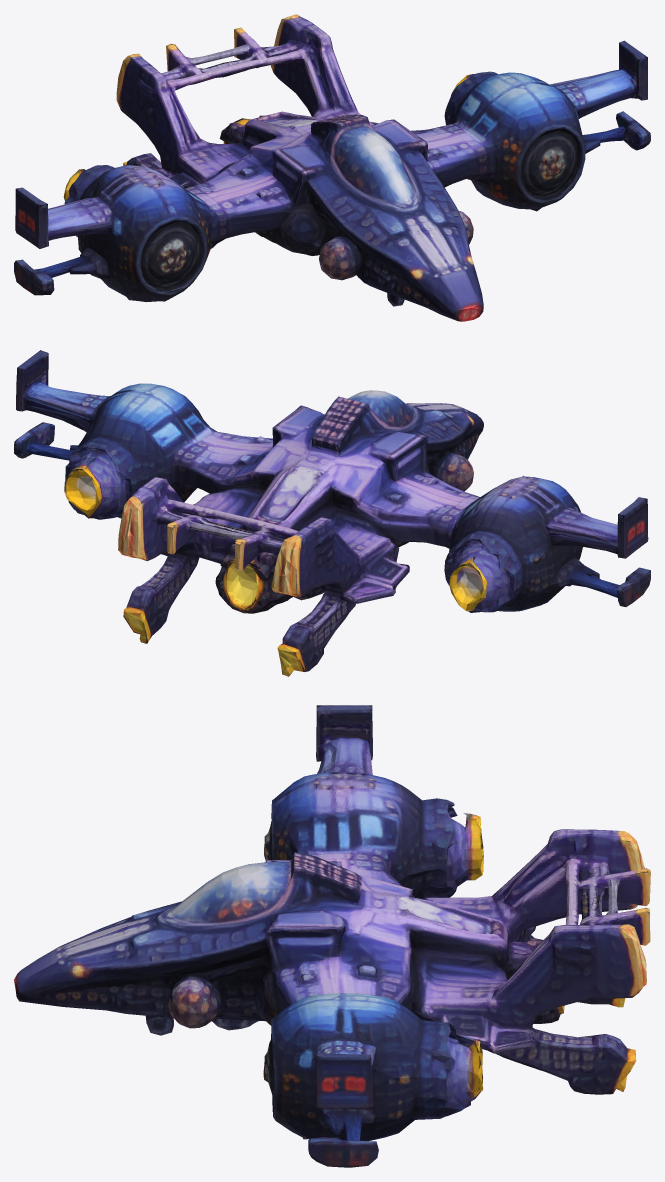
The model's file is Sokoly Fighter.glb.
3 renders of one model, top to bottom at view 1: azimuth 30°, elevation 25°; view 2: azimuth 150°, elevation 25°; view 3: azimuth 270°, elevation 25°, orthographic. The views are drawn at different scales.
Visible parts, largest first — view 1: world; view 2: world; view 3: world.
Part boxes in pixels (bbox=[...]): world: bbox=[14, 14, 650, 321]; world: bbox=[14, 350, 650, 676]; world: bbox=[14, 705, 650, 1167].
Size of the model in its own units: 1 by 0.2516 by 0.7632.
1 material, 1 textured.
